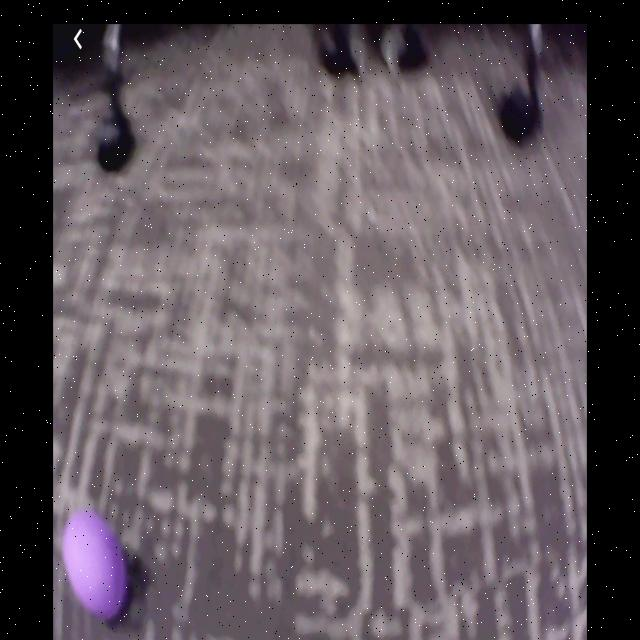ball: (64, 507, 126, 620)
